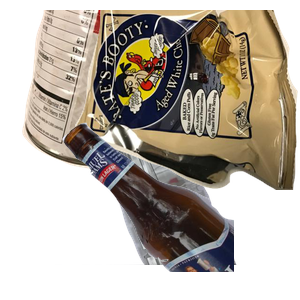glass: (60, 120, 300, 300)
metal: (20, 10, 199, 172)
plastic: (55, 120, 284, 300)
trash: (75, 10, 300, 190)
